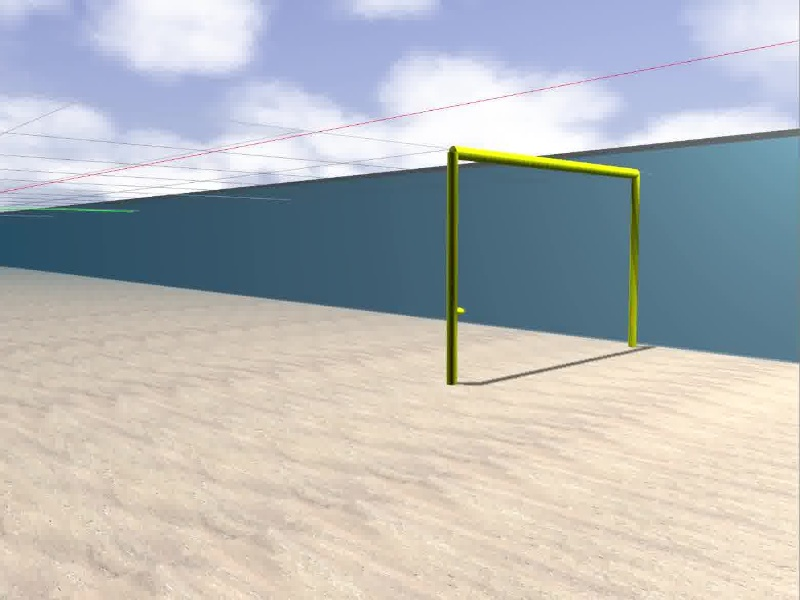gate: (443, 142, 643, 390)
